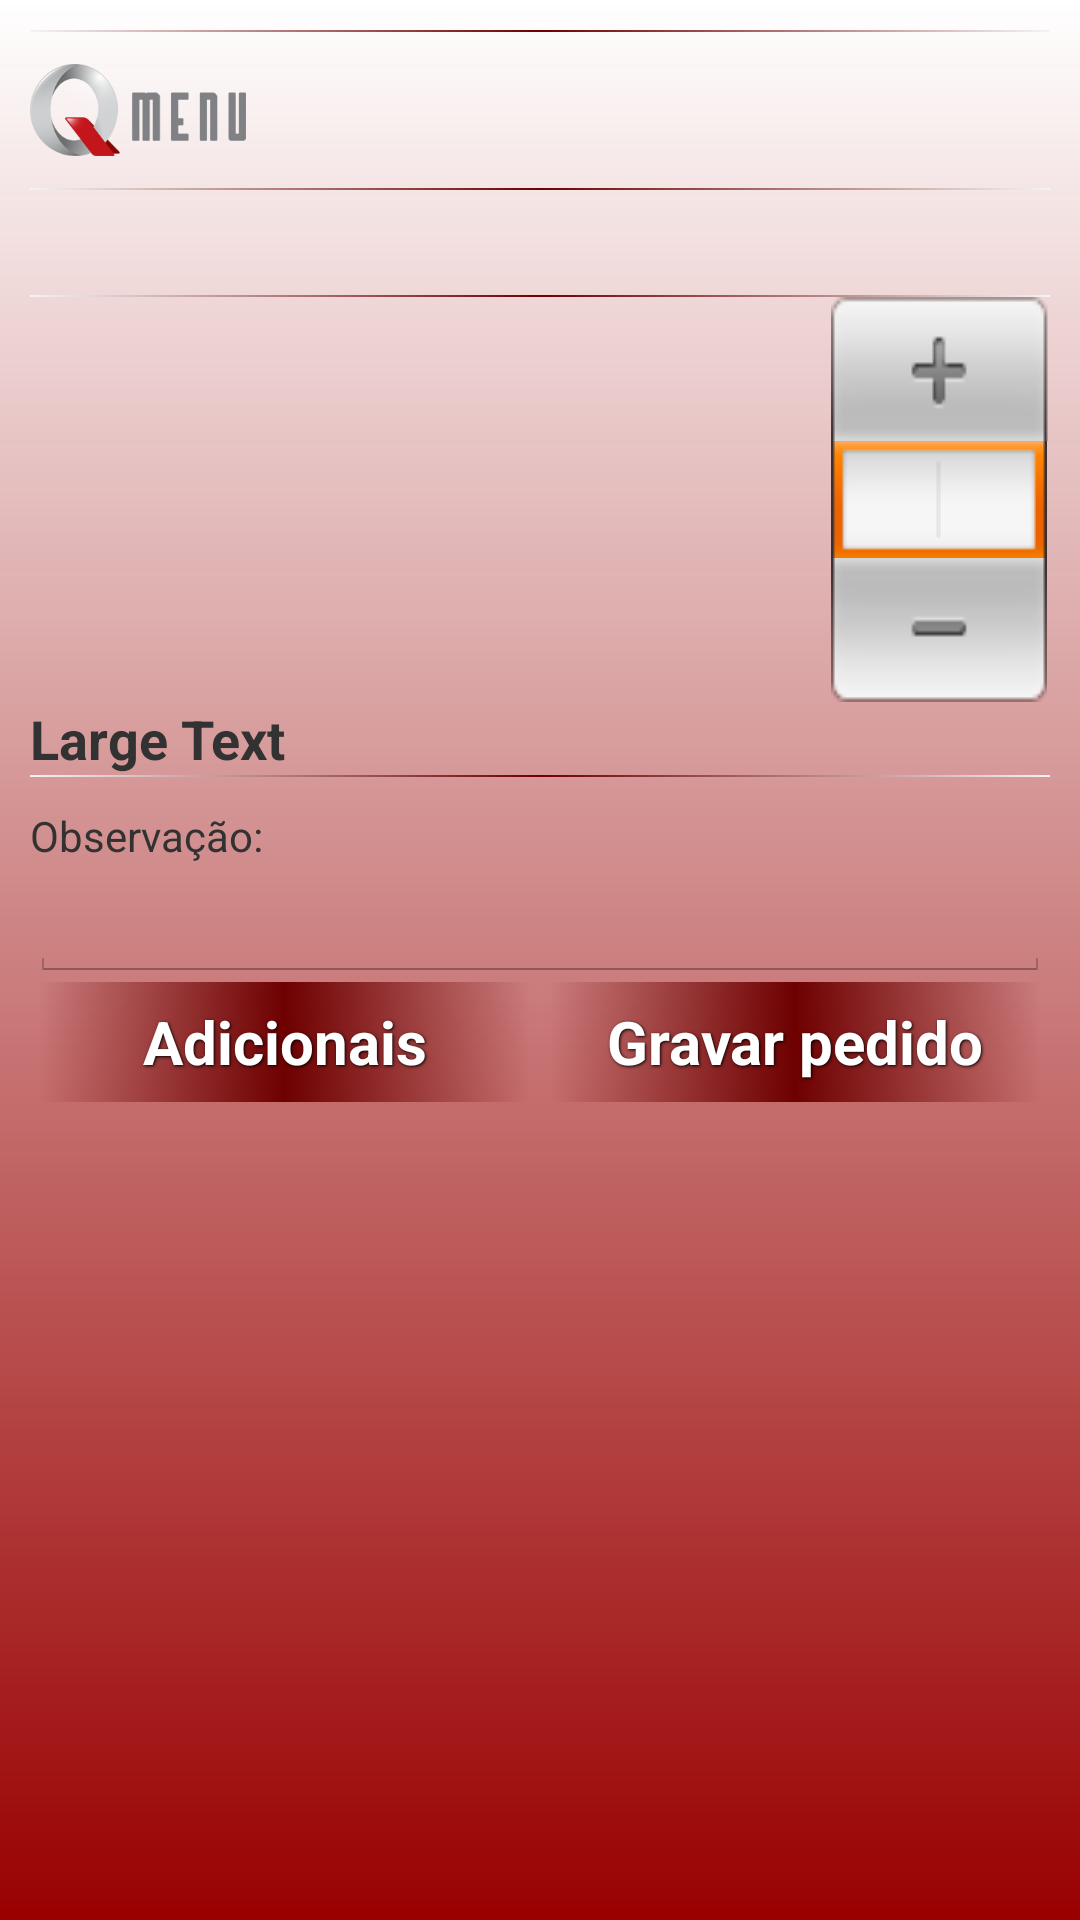

Icons on this 1080*1920 Android screen, each with its box as detection(x1, y1, x2, y2):
timepicker down: detection(831, 558, 1047, 702)
timepicker up: detection(831, 297, 1048, 441)
